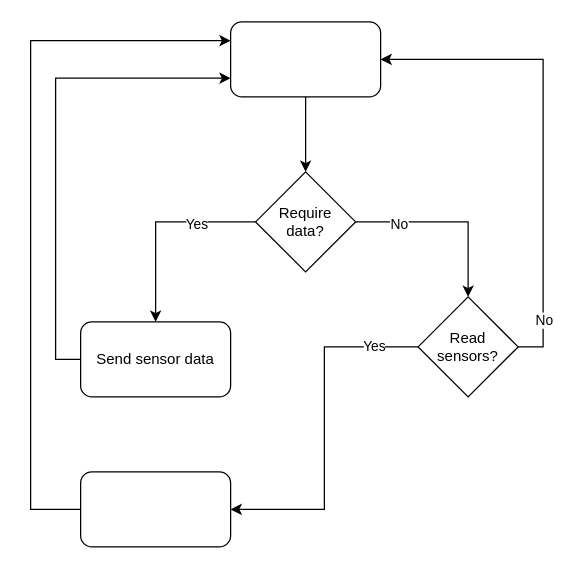
This 575x569 diagram has some shape labels left out. Here are the shapes that lost their labels. From the top down, the centre of each, then its label:
pixel 305 59: Wait
pixel 155 509: Read sensors
